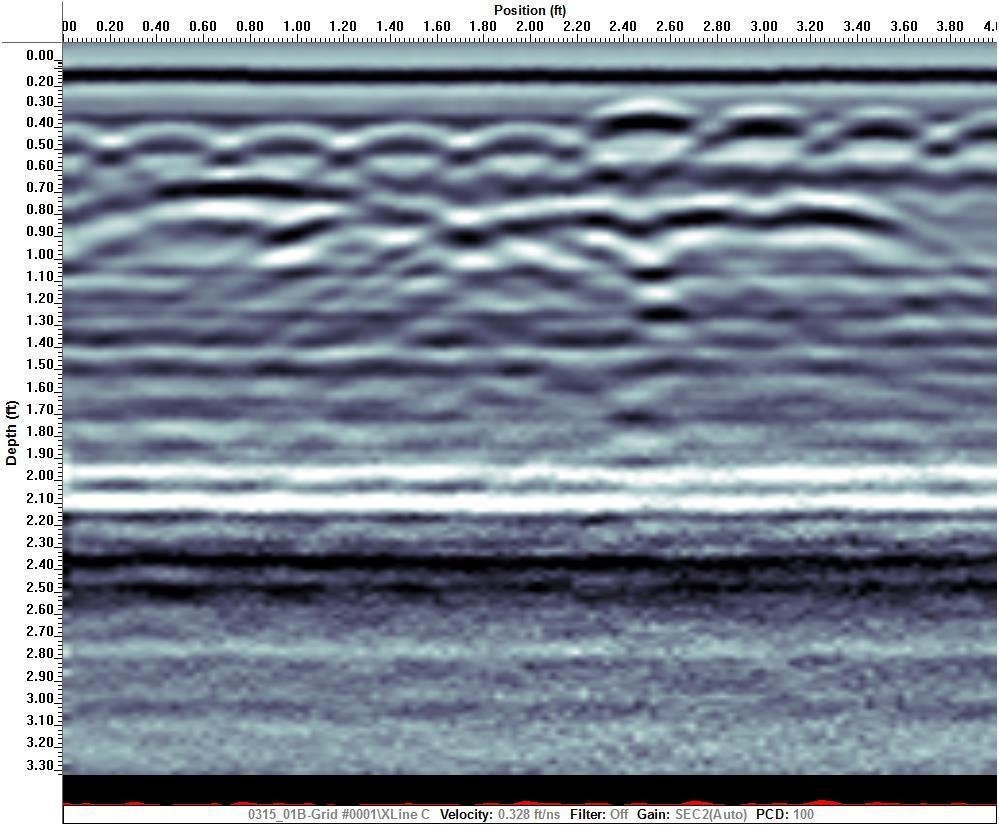hyperbola: (323, 121, 482, 210), (559, 93, 718, 182), (681, 99, 840, 188), (204, 117, 363, 206)
